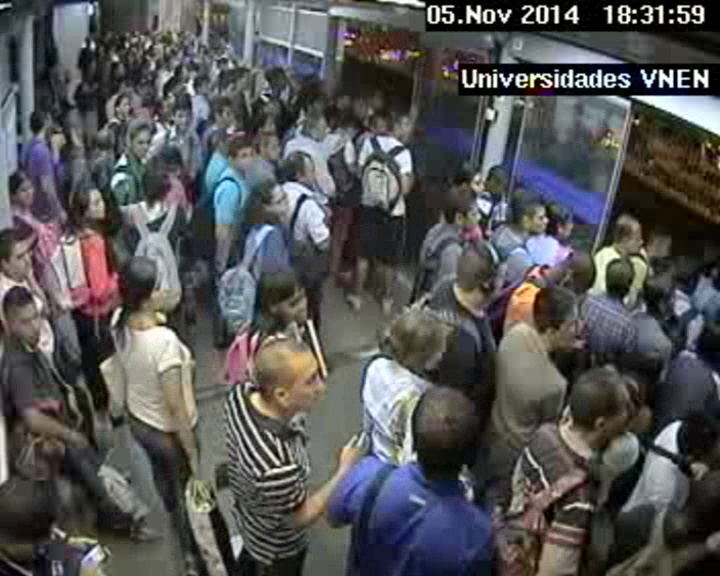person: (404, 383, 484, 473), (252, 339, 328, 422), (564, 364, 639, 443), (1, 474, 63, 552), (390, 308, 455, 379), (454, 243, 513, 305), (526, 286, 582, 348), (118, 256, 172, 316), (255, 272, 312, 328), (2, 287, 49, 343), (672, 467, 720, 518), (245, 179, 290, 224), (678, 411, 720, 458), (1, 232, 44, 277), (556, 248, 597, 294), (511, 187, 548, 236), (639, 273, 680, 315), (609, 211, 647, 254), (281, 150, 320, 188), (444, 190, 481, 230), (72, 183, 108, 223), (7, 170, 42, 208), (545, 201, 578, 240), (604, 258, 635, 297), (454, 163, 485, 198), (632, 348, 663, 381), (647, 227, 677, 261), (125, 124, 154, 159), (671, 256, 701, 288), (691, 322, 720, 355), (225, 138, 255, 169), (208, 96, 235, 127), (142, 172, 170, 200), (158, 143, 185, 172), (255, 132, 281, 159), (488, 166, 512, 193), (260, 98, 285, 123), (304, 91, 329, 116), (301, 114, 325, 140), (170, 103, 193, 130), (300, 72, 324, 96), (370, 109, 392, 135), (217, 129, 239, 153), (28, 110, 49, 134), (264, 67, 285, 88), (392, 113, 413, 134), (49, 109, 70, 129), (94, 128, 114, 149), (113, 94, 131, 117), (229, 67, 249, 87), (112, 79, 132, 98), (349, 97, 369, 116), (333, 92, 351, 112), (170, 84, 186, 106), (367, 88, 385, 107), (249, 72, 266, 92), (324, 107, 341, 126), (134, 79, 150, 97), (108, 63, 125, 79), (194, 75, 210, 92), (68, 142, 83, 160), (156, 96, 170, 113), (45, 49, 60, 64), (85, 71, 97, 84), (185, 64, 196, 78), (220, 35, 232, 47), (175, 65, 186, 76), (218, 58, 228, 70), (197, 44, 207, 55), (127, 53, 137, 64), (95, 43, 105, 53), (130, 42, 140, 52), (84, 37, 93, 48), (184, 45, 193, 55), (103, 30, 112, 39), (123, 32, 131, 39), (155, 33, 162, 41), (179, 32, 186, 39), (167, 40, 174, 47), (133, 30, 140, 36), (110, 44, 116, 51), (148, 46, 155, 52), (168, 28, 174, 33), (143, 31, 148, 36), (114, 35, 119, 38)
